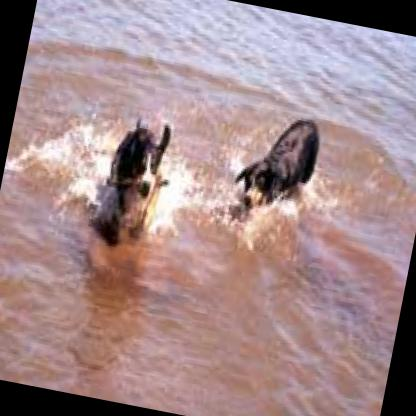EntleBucher: (82, 106, 179, 276), (230, 102, 328, 217)
